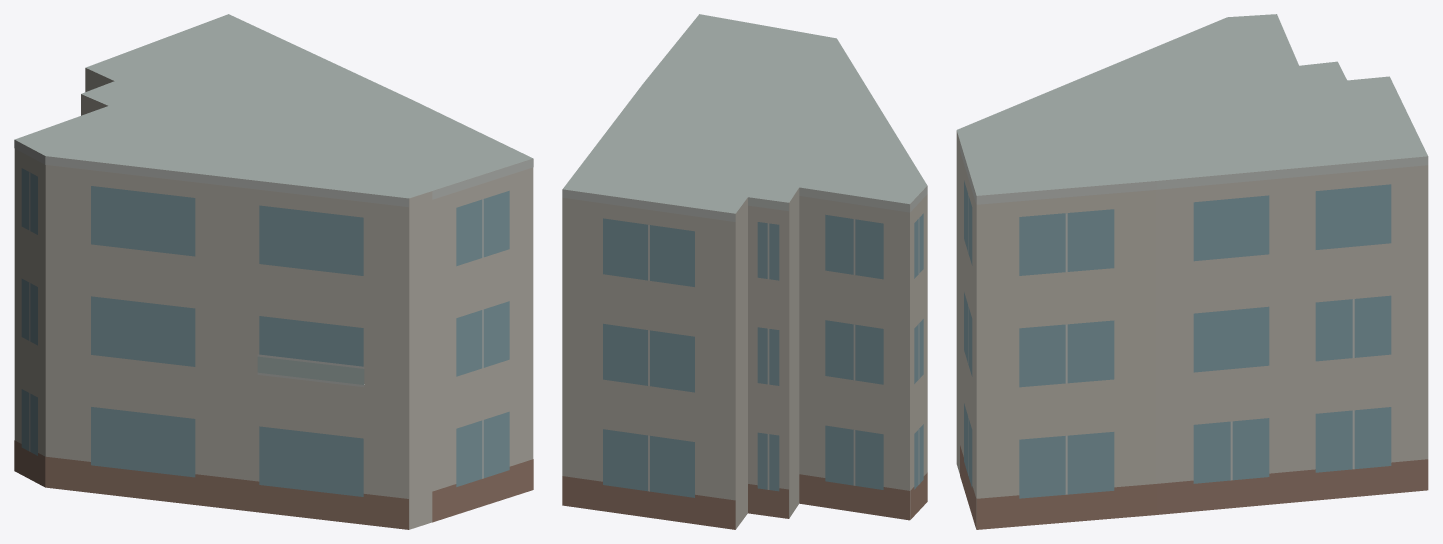
Rendered from survey-upis-32644812.glb.
3 renders of one model, left to right at view 1: azimuth 30°, elevation 25°; view 2: azimuth 150°, elevation 25°; view 3: azimuth 270°, elevation 25°, orthographic. The views are drawn at different scales.
Visible parts, largest first — view 1: survey-upis-32644812.tmp; view 2: survey-upis-32644812.tmp; view 3: survey-upis-32644812.tmp.
Part boxes in pixels (<box>): survey-upis-32644812.tmp: <box>14,14,533,529</box>; survey-upis-32644812.tmp: <box>562,14,927,529</box>; survey-upis-32644812.tmp: <box>956,14,1428,529</box>.
Size of the model in its own units: 10.7 by 9.15 by 11.72.
